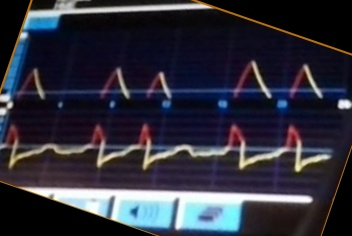Ineffective_effort Flow: (3, 120, 330, 177)
Ineffective_effort Volume: (20, 57, 326, 99)
